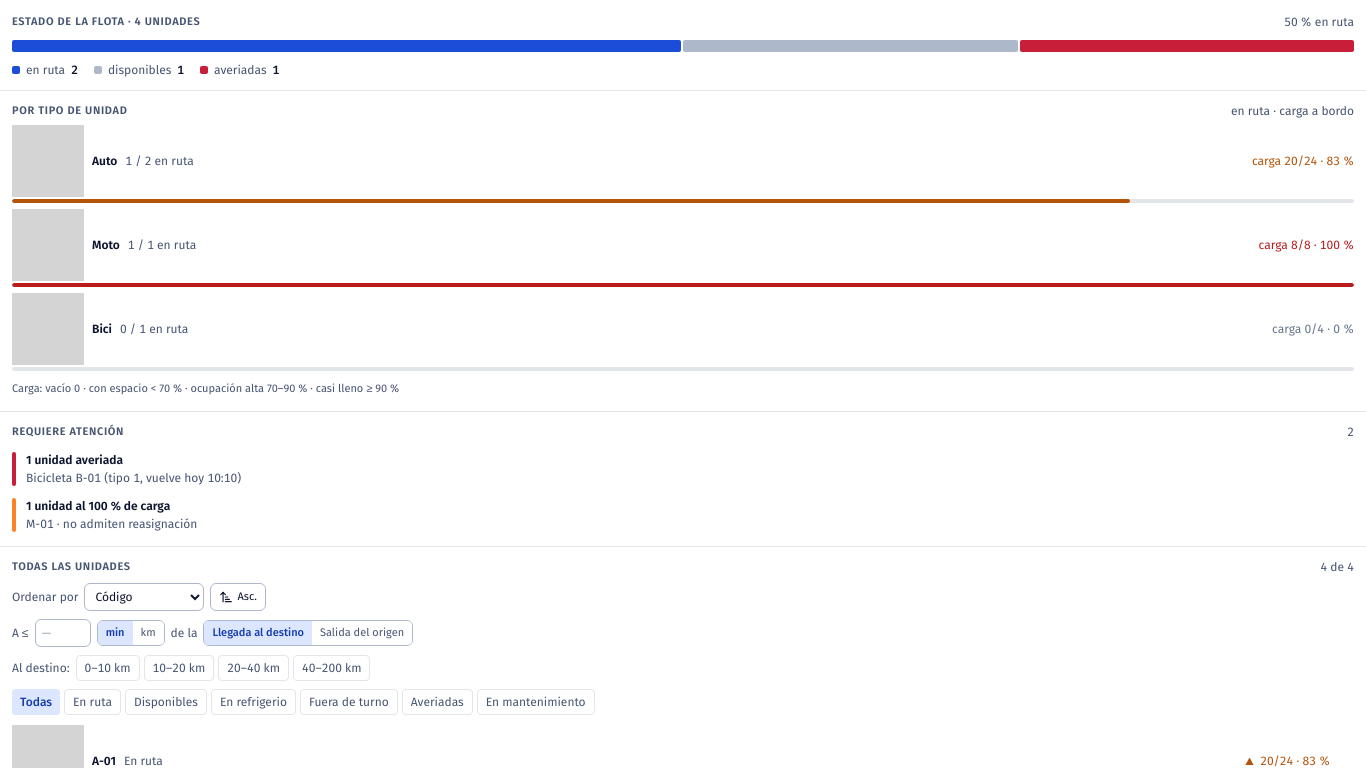
Test: Rúbrica · PANEL · lista de unidades › E11 · el filtro por rangos de km al destino es permanente y se combina con la búsqueda
Later steps or results of the test are not shown.
Click the button "0–10 km". click: (108, 668)
box: [76,655,140,681]
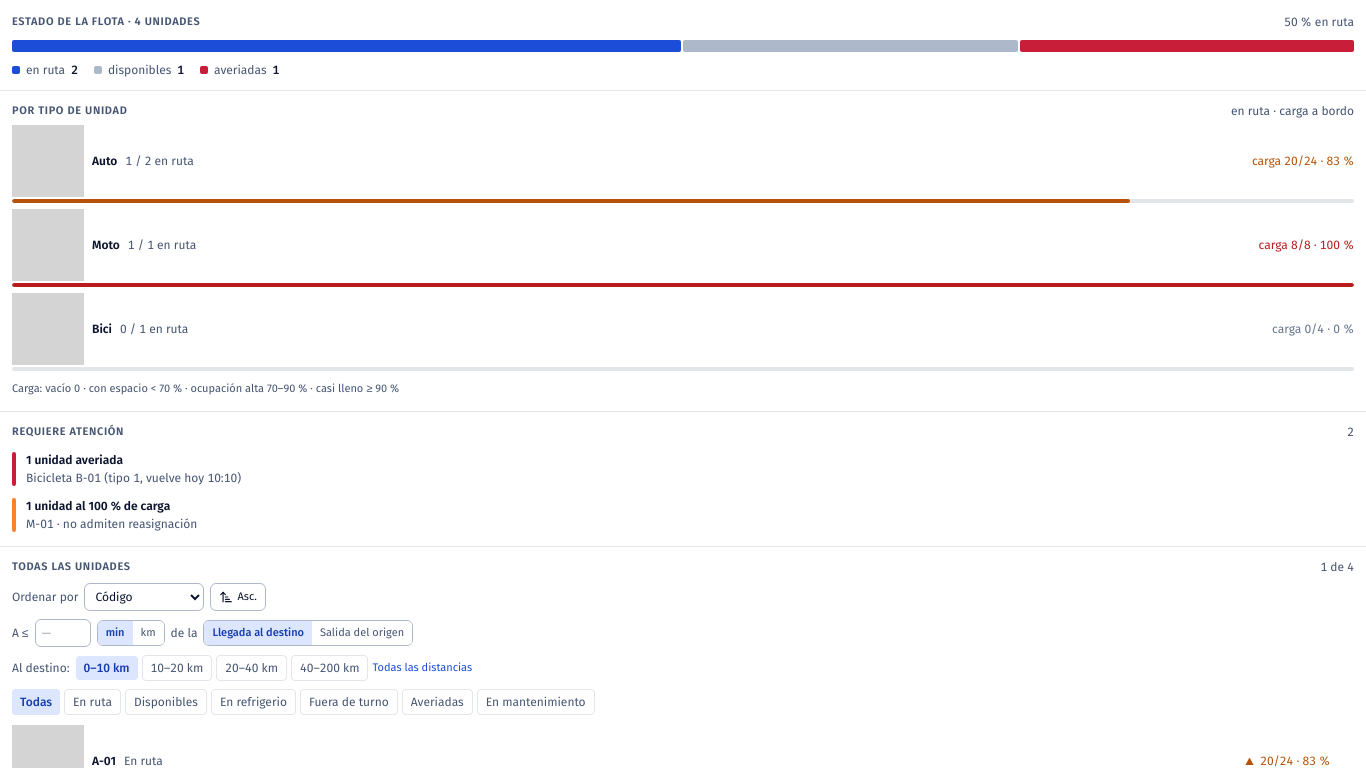
Now the button "0–10 km" is pressed, box [76,656,138,680]
Type "20" into the number field named "Minutos como máximo". click: (63, 633)
box: [35,619,91,647]
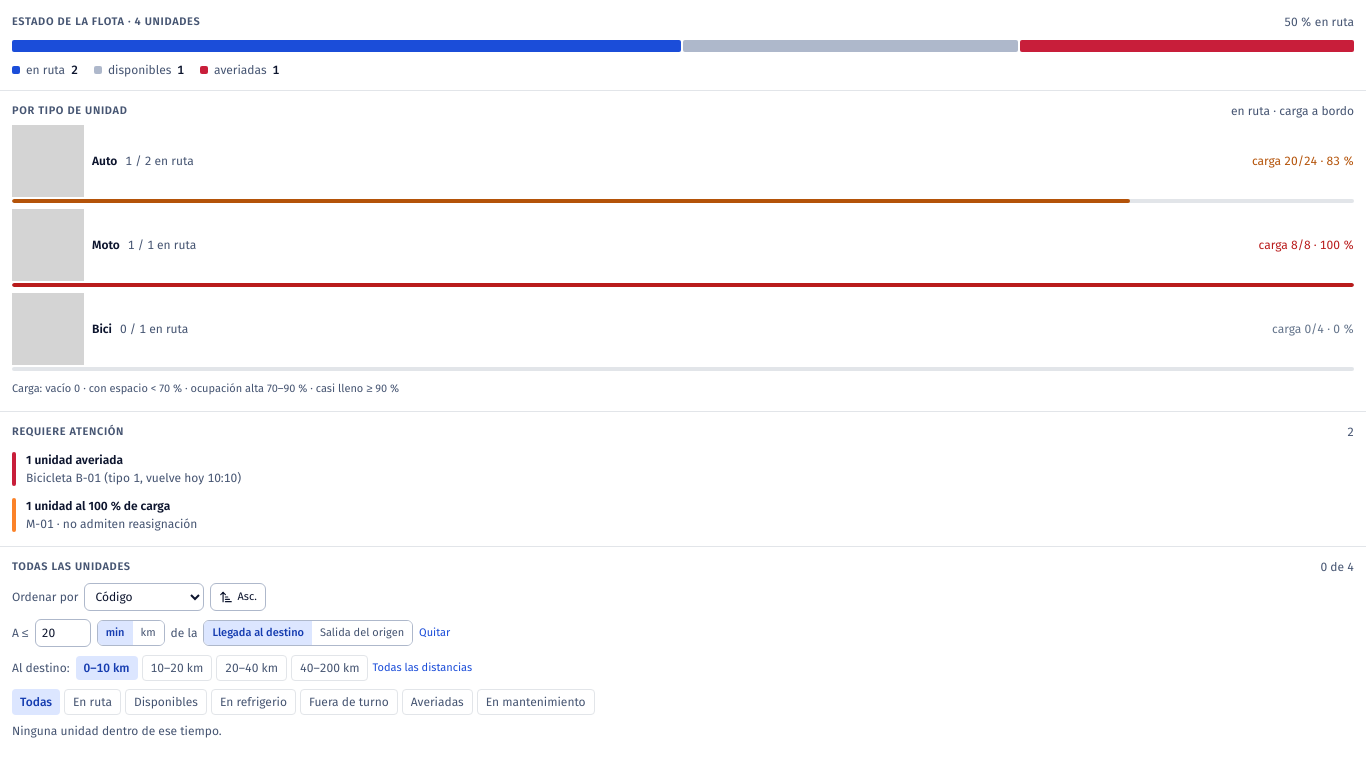
Clear the number field named "Minutos como máximo". click: (63, 633)
box: [35,619,91,647]
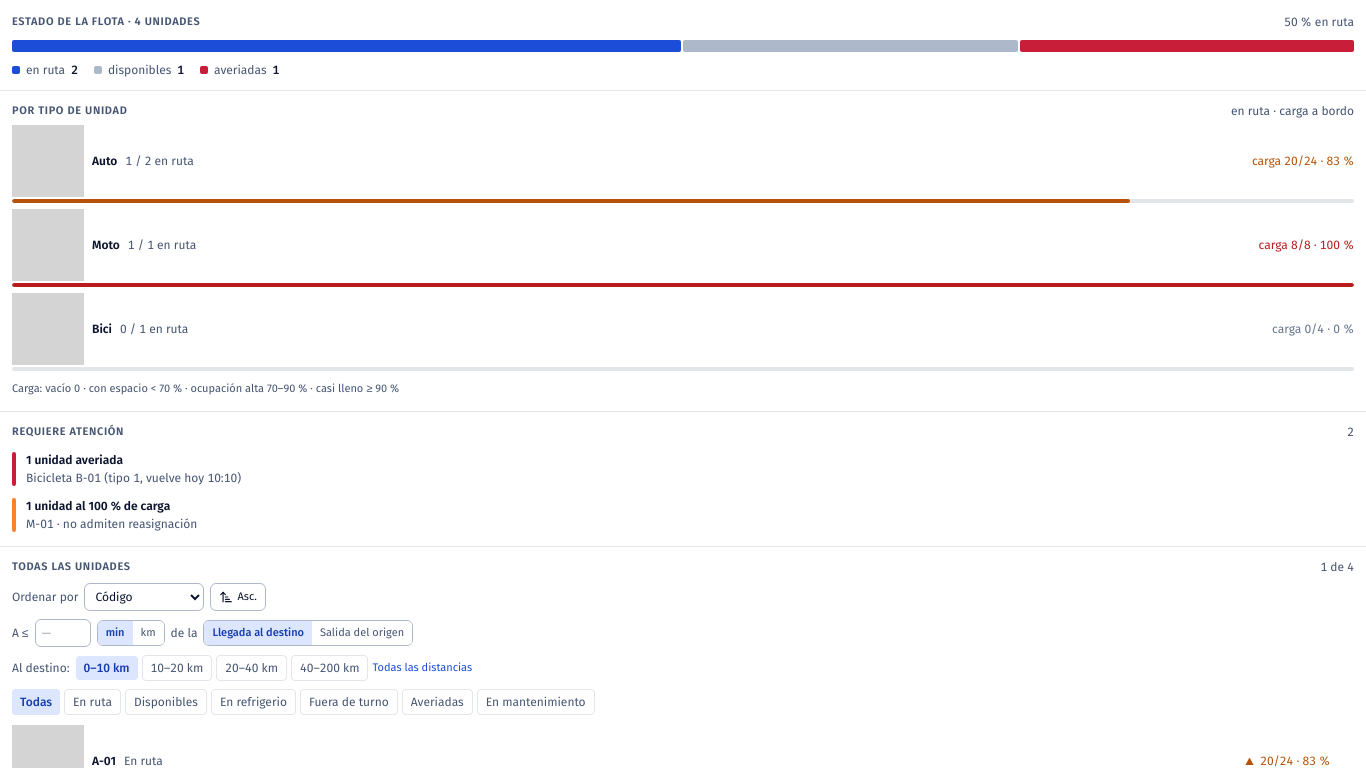
Click the button "0–10 km". click: (106, 668)
box: [76,656,138,680]
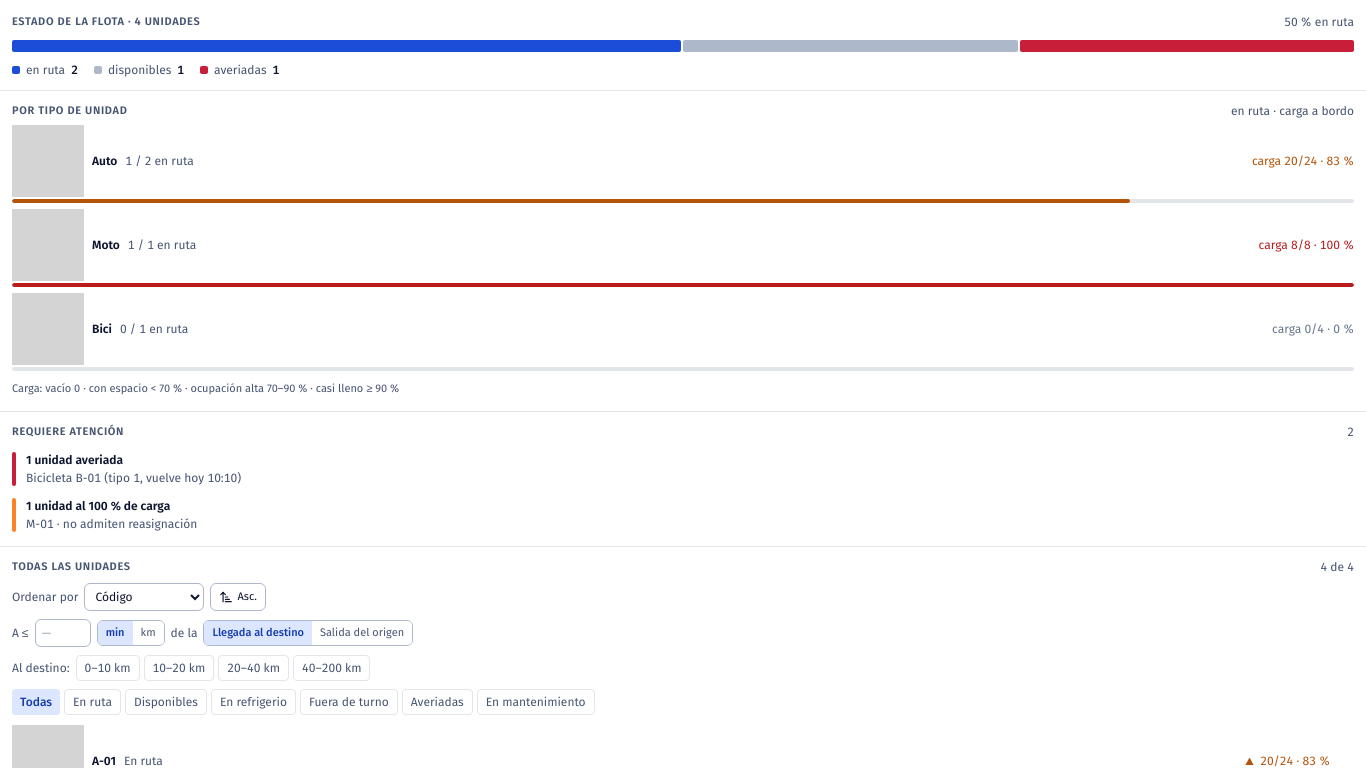
Click the button "10–20 km". click: (179, 668)
box: [144,655,214,681]
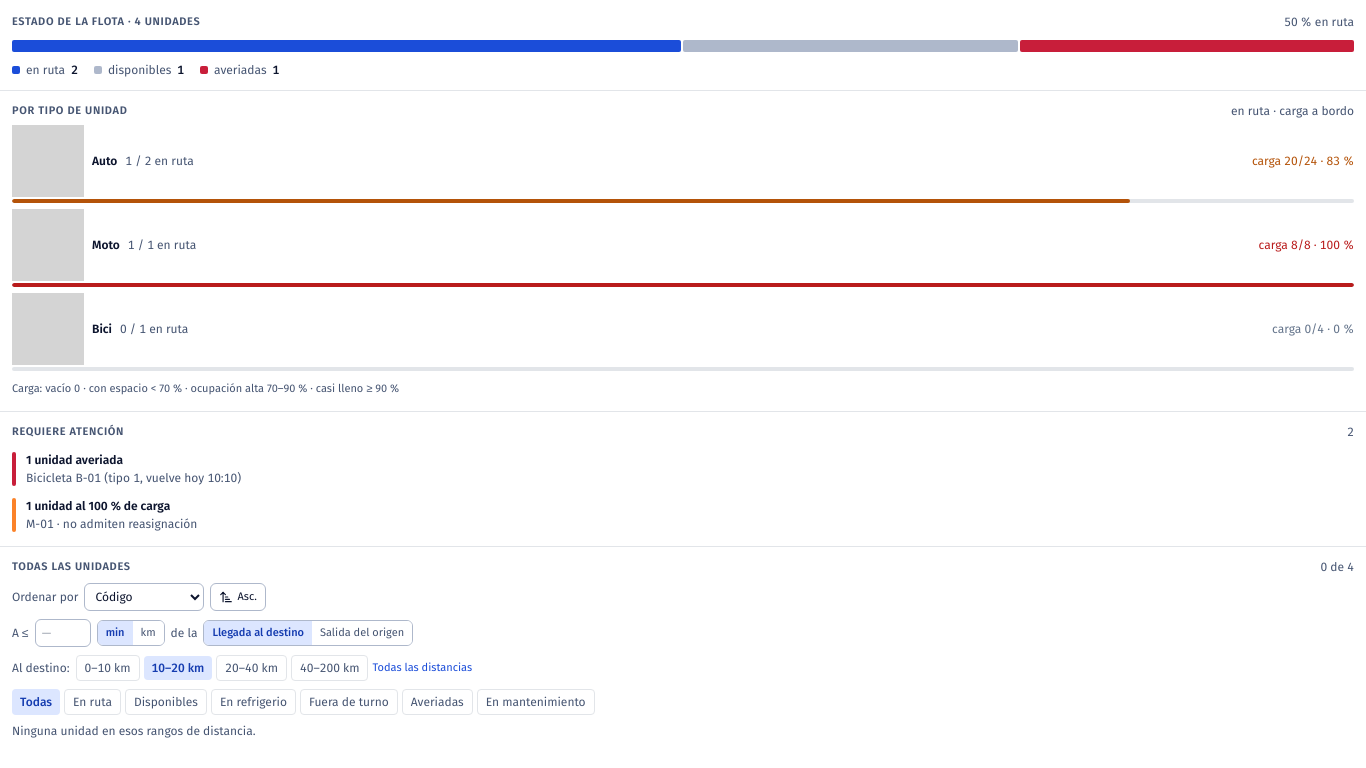
Now the text "Ninguna unidad en esos rangos de distancia." is shown, box [12,724,256,738]
